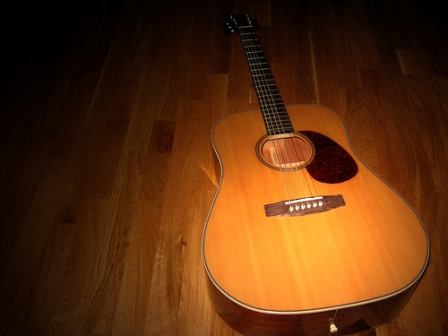guitar: (200, 11, 432, 334)
